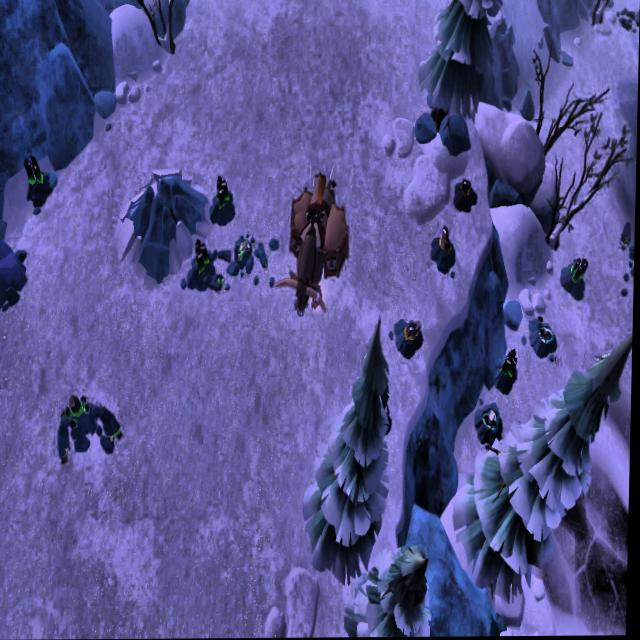ore_t3: (22, 152, 46, 192), (192, 232, 212, 275), (501, 344, 519, 384), (571, 252, 589, 291), (216, 171, 230, 210)
rock_t4: (0, 232, 32, 312)
